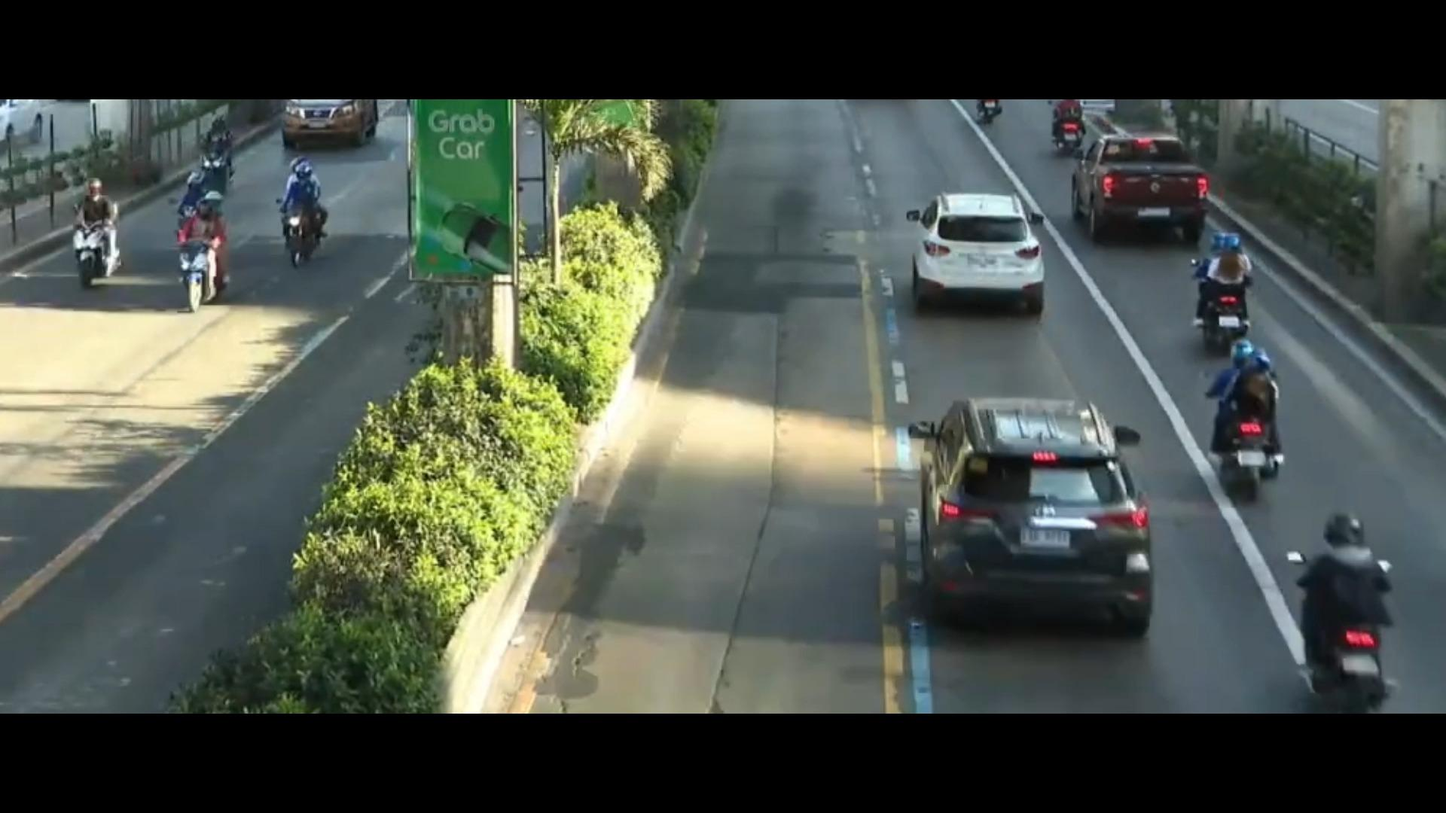Motorcycle: (1293, 503, 1405, 714), (1194, 333, 1307, 509), (1183, 226, 1300, 354), (265, 153, 336, 285), (171, 217, 245, 318), (70, 179, 142, 280), (189, 125, 253, 203), (155, 175, 227, 233), (1051, 91, 1093, 161)
Pickup: (1051, 121, 1228, 258)
SUV: (840, 367, 1180, 654), (900, 177, 1055, 325)
